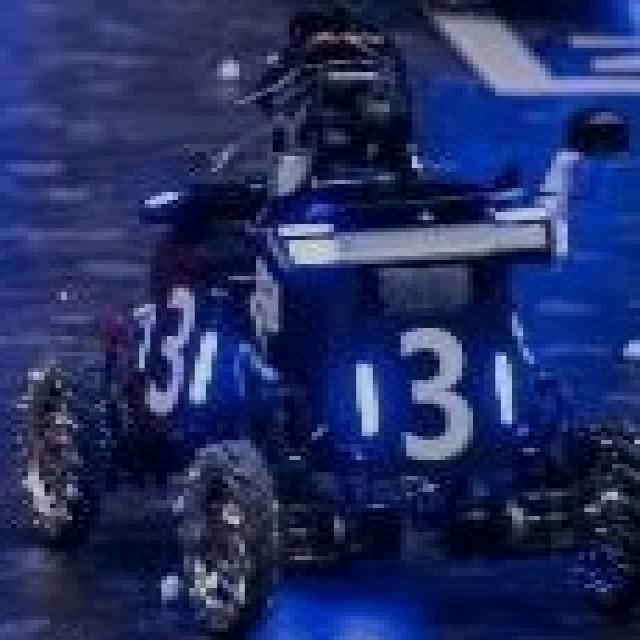B3: (345, 324, 523, 464), (128, 284, 223, 420)
